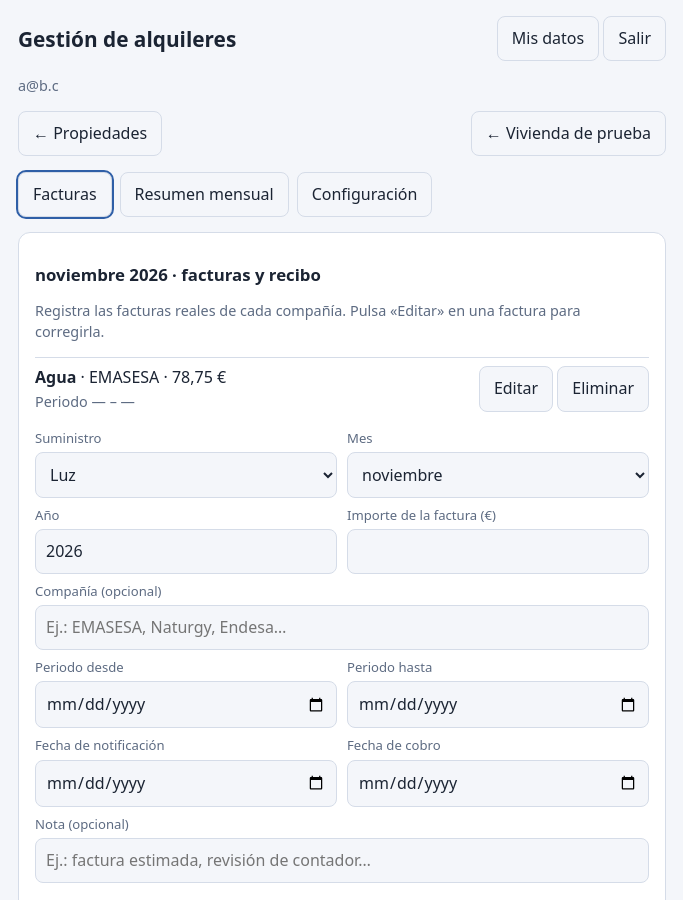
Test: Agua, luz y gas registra facturas y muestra el resumen mensual
Expected: the number field labelled "Importe de la factura (€)" is shown, 347,529 -> 649,574
What coordinates should you click on to do the following:
click the button "Resumen mensual"
I would click on:
 (204, 195)
Its box is 120,172 -> 289,217.
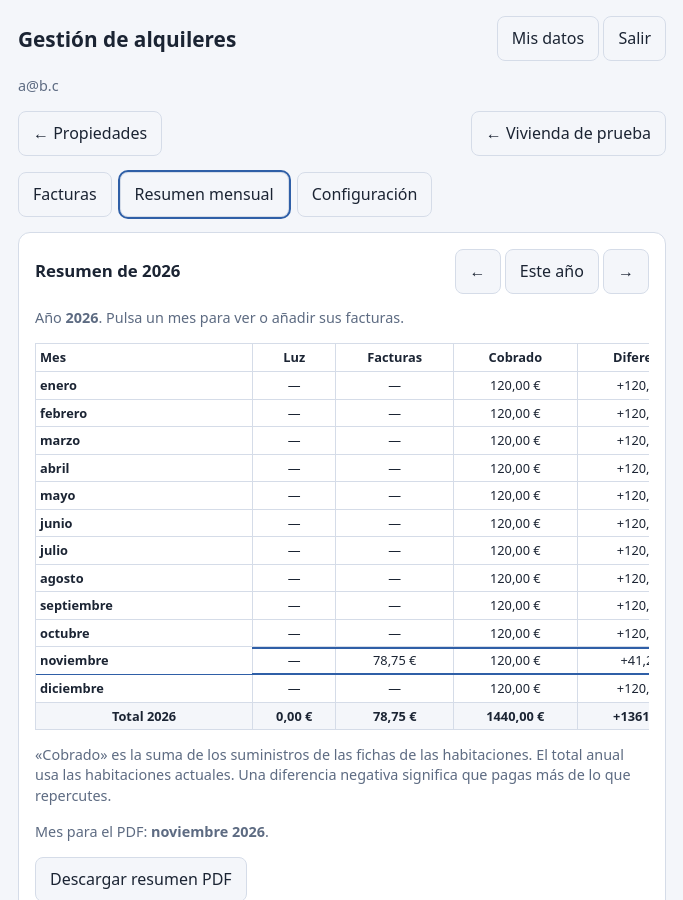
Expected: the column heading "Cobrado" is shown, 454,344 -> 577,372
Expected: the text "Mes para el PDF: noviembre 2026." is shown, 35,822 -> 269,840
